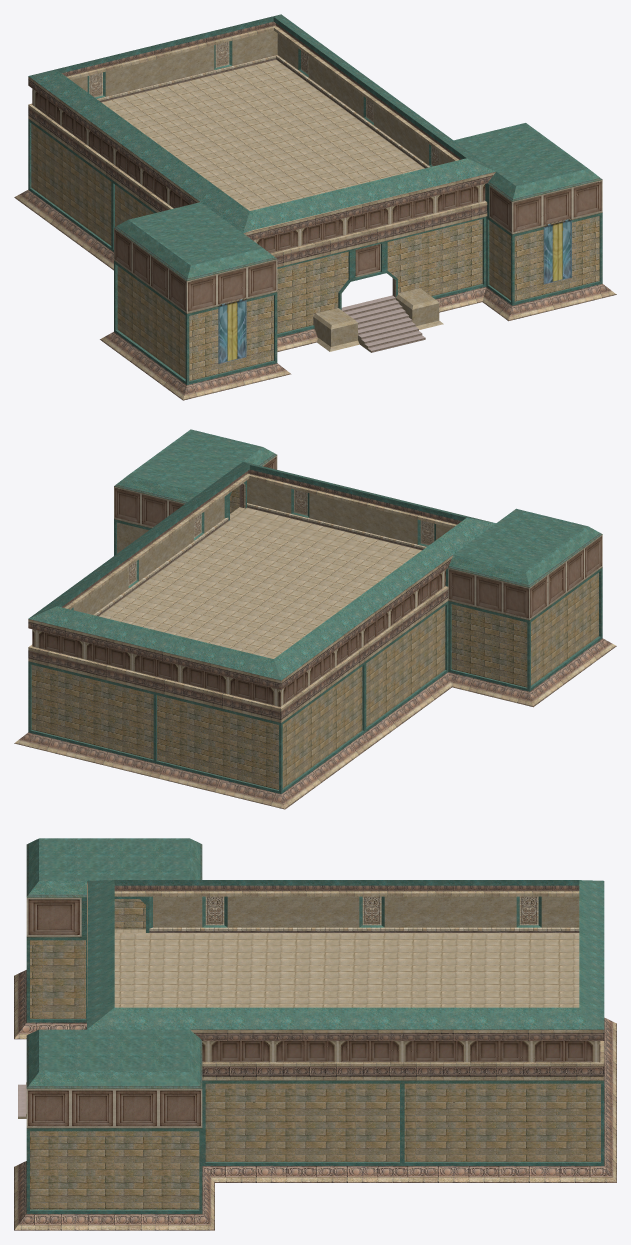
Rendered from thm_nboo_assoc_hall_civ_s01_r0_exterior_mesh_exterior_l0.fbx.
3 views of the same model, one above another, from view 1: azimuth 30°, elevation 25°; view 2: azimuth 150°, elevation 25°; view 3: azimuth 270°, elevation 25° (orthographic). The views are drawn at different scales.
Visible parts, largest first — view 1: mesh_node; view 2: mesh_node; view 3: mesh_node.
Boxes of the visible parts, x1,y1,x2,y2 form: mesh_node: [14, 14, 616, 400]; mesh_node: [14, 429, 616, 809]; mesh_node: [14, 838, 616, 1230].
Size of the model in its own units: 48 by 14 by 48.
